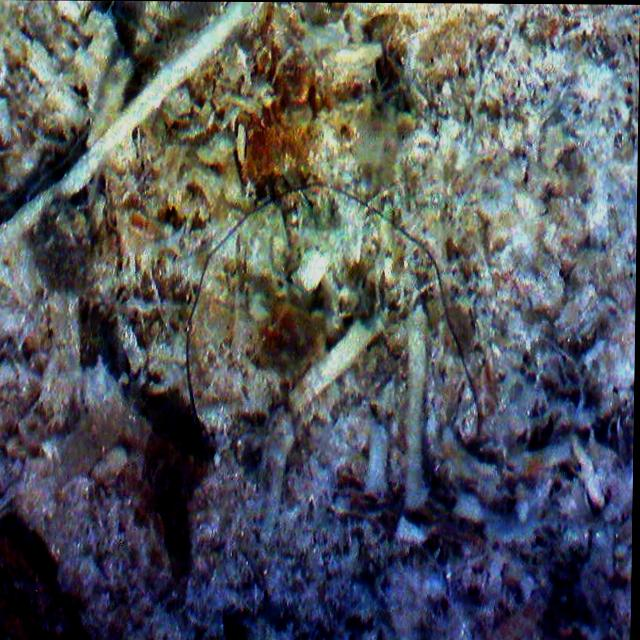microplastic: (176, 173, 487, 457)
